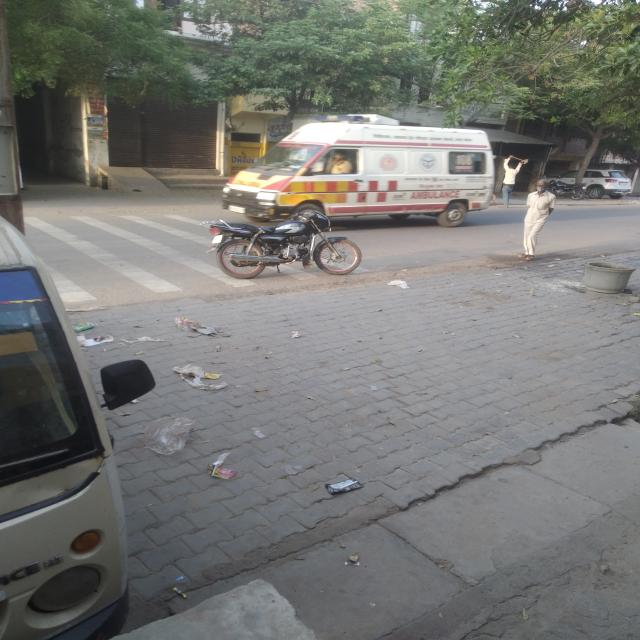Two Wheeler: (205, 210, 360, 279)
